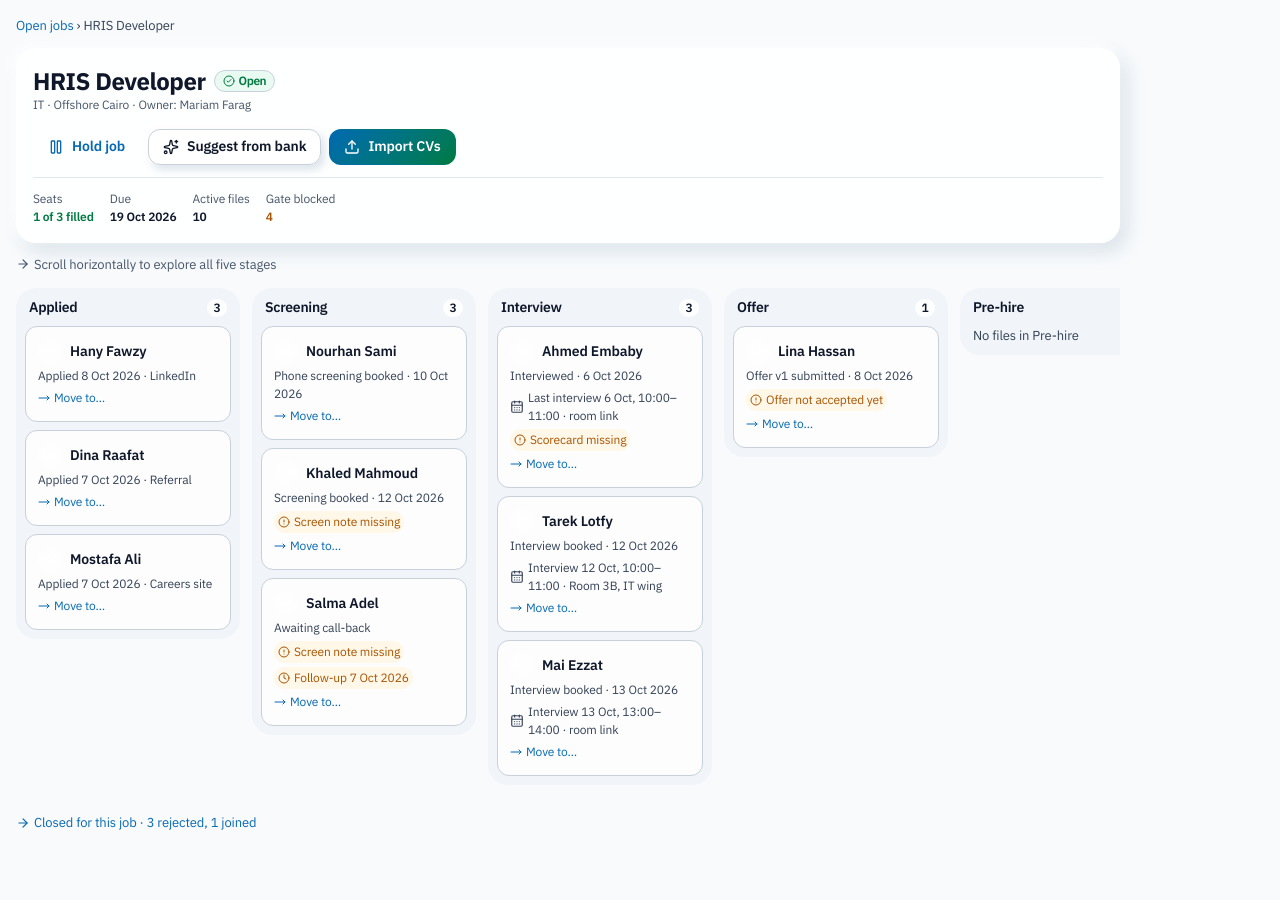
Test: E09 Job pipeline › disabled targets do nothing; Escape closes the menu and returns focus
Click the button "Move to…" below "Applied 8 Oct 2026 · LinkedIn": point(71, 398) x1=38 y1=389 x2=105 y2=407
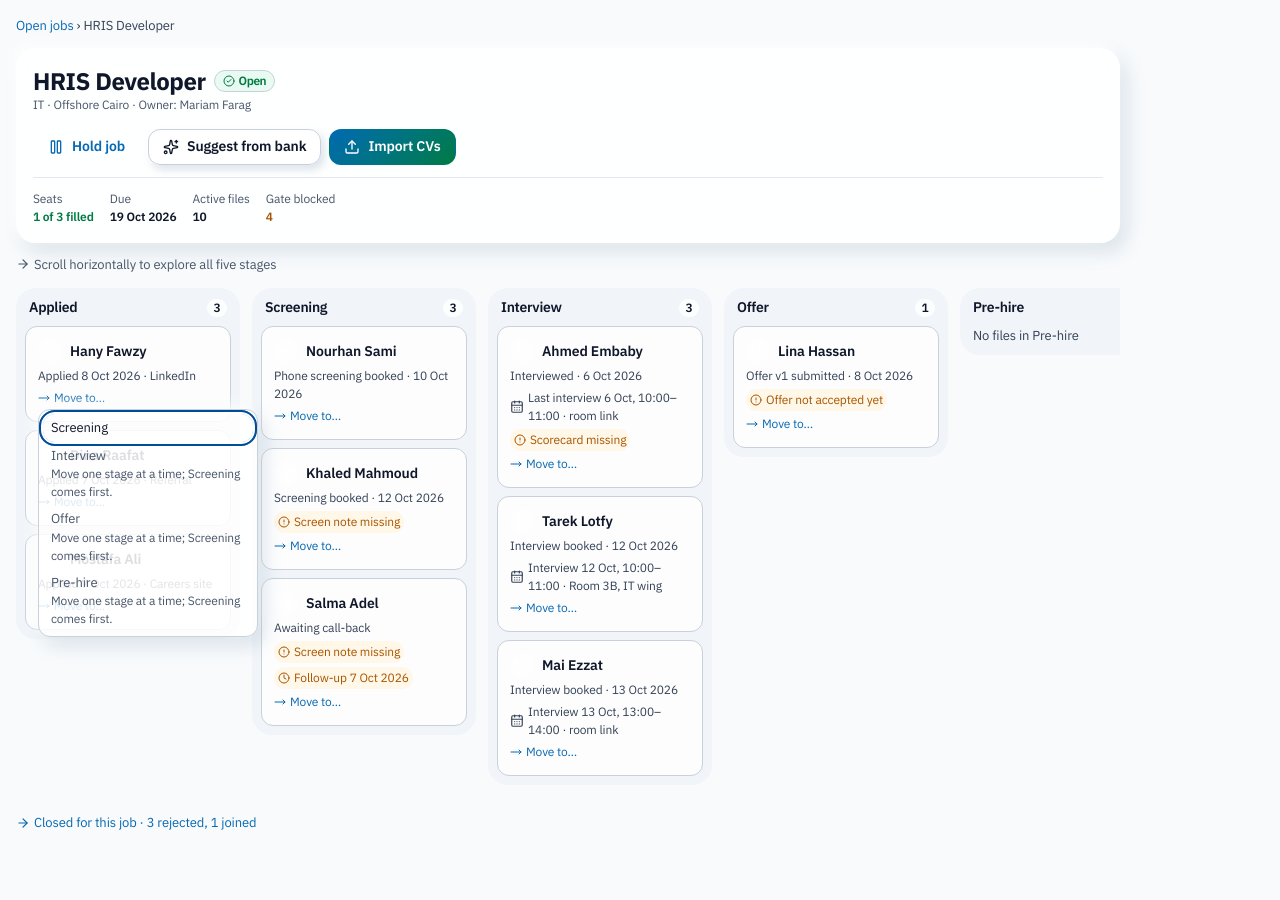
Click the menu item "Offer Move one stage at a time; Screening comes first.": point(148, 537) x1=43 y1=505 x2=253 y2=568
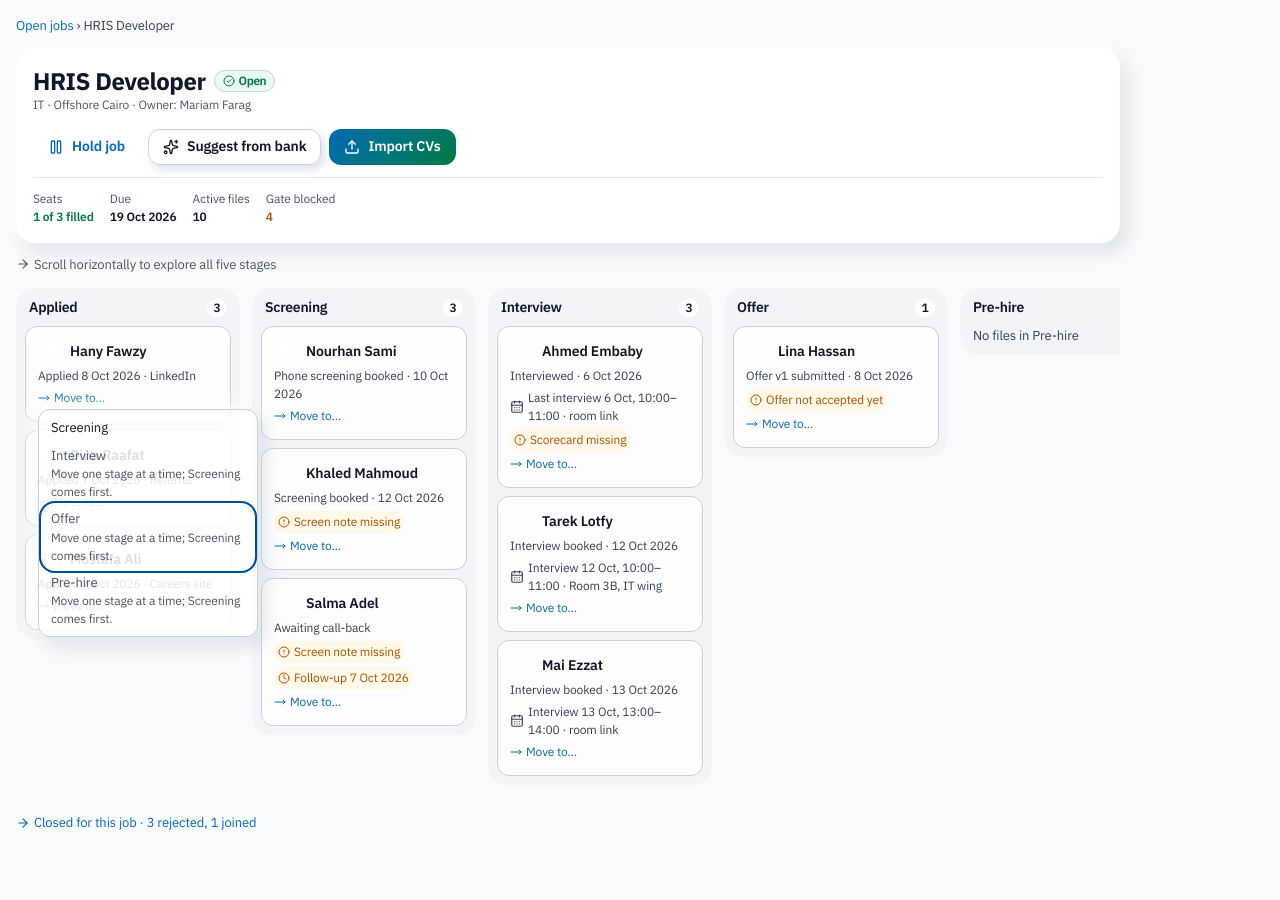
Press Escape
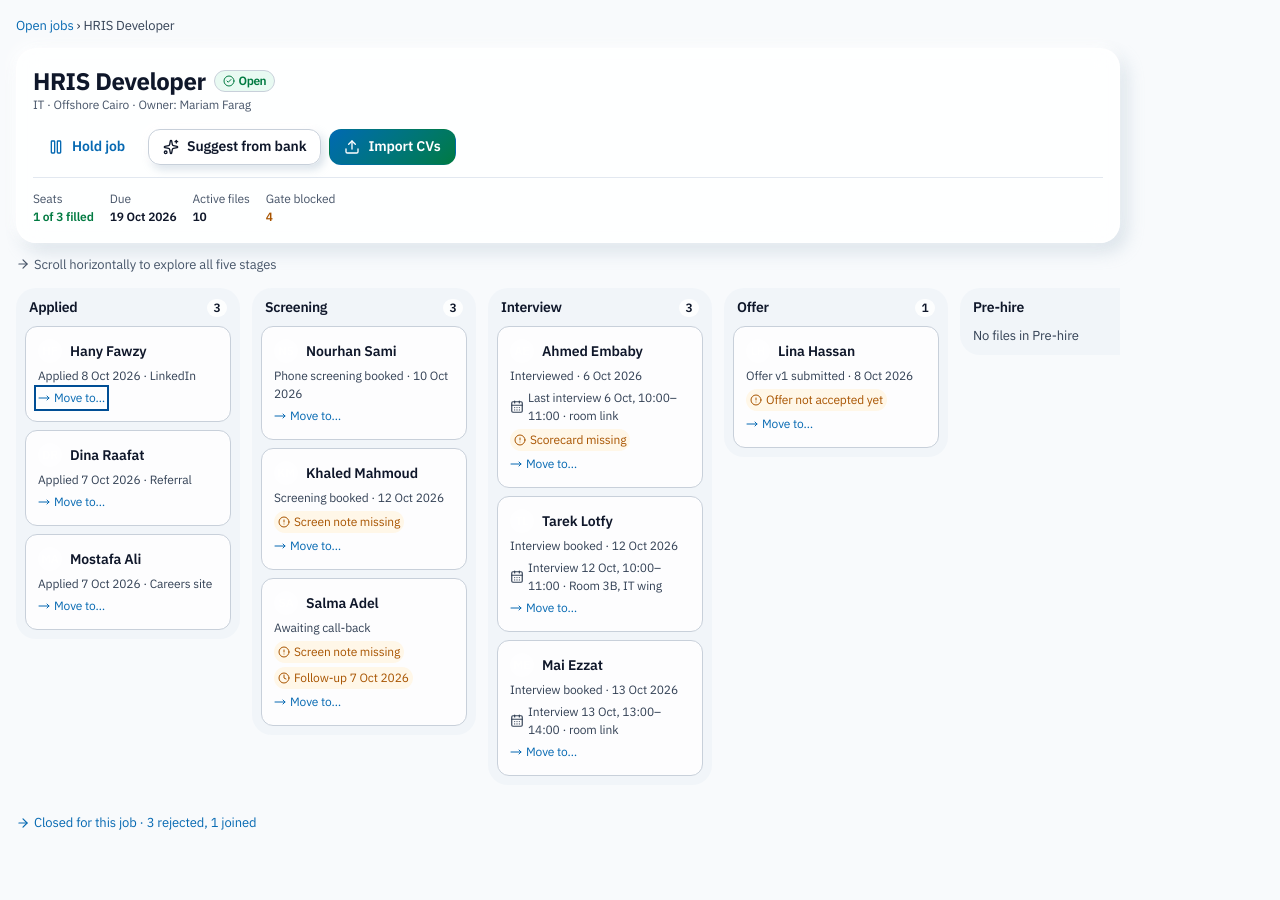
Expected: the menu is gone
